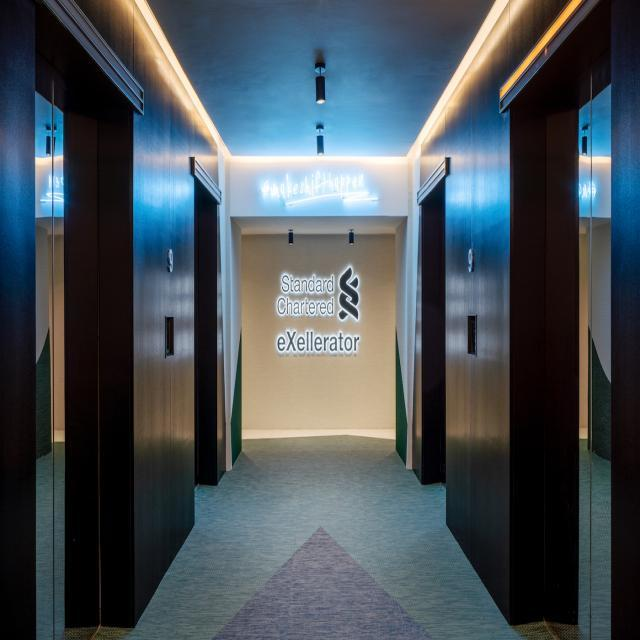Standard Chartered: (277, 264, 360, 322)
